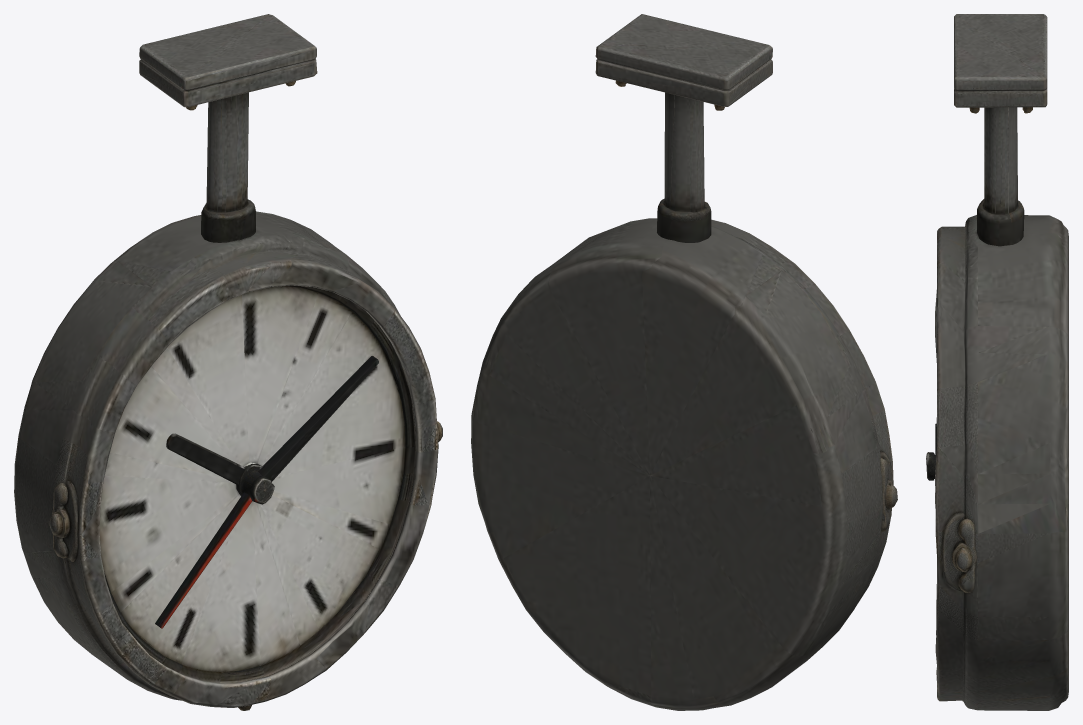
File: p7-platform-clock-t25.glb
3 renders of one model, left to right at view 1: azimuth 30°, elevation 25°; view 2: azimuth 150°, elevation 25°; view 3: azimuth 270°, elevation 25°, orthographic.
Parts seen in each view (by area): view 1: p7-platform-clock-t25; view 2: p7-platform-clock-t25; view 3: p7-platform-clock-t25.
Part boxes in pixels (box(x1,y1,x2,y2)): p7-platform-clock-t25: box(14, 14, 442, 710); p7-platform-clock-t25: box(471, 14, 897, 710); p7-platform-clock-t25: box(926, 14, 1068, 710).
Size of the model in its own units: 0.5 by 0.8 by 0.158.
Materials: 1 (1 with a texture image).
